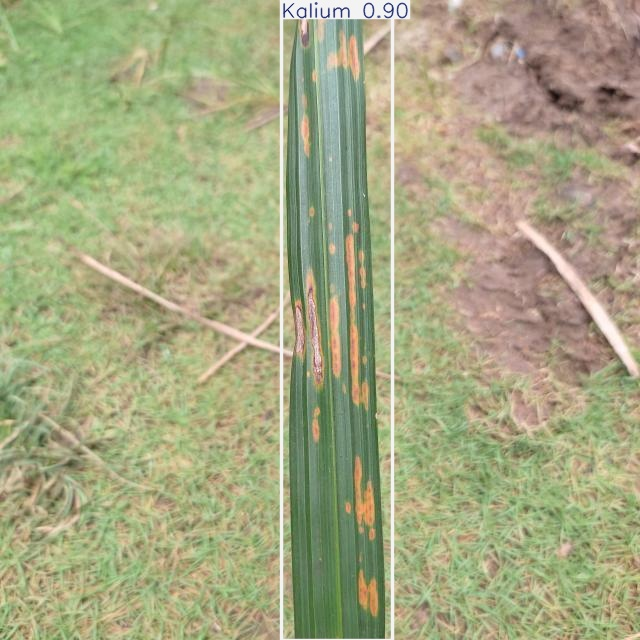Kalium: (281, 0, 393, 640)
